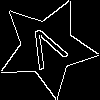V: (22, 23, 74, 79)
